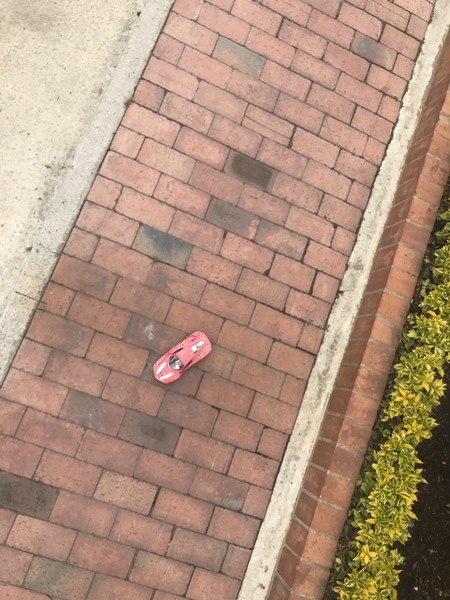RC: (150, 329, 215, 387)
